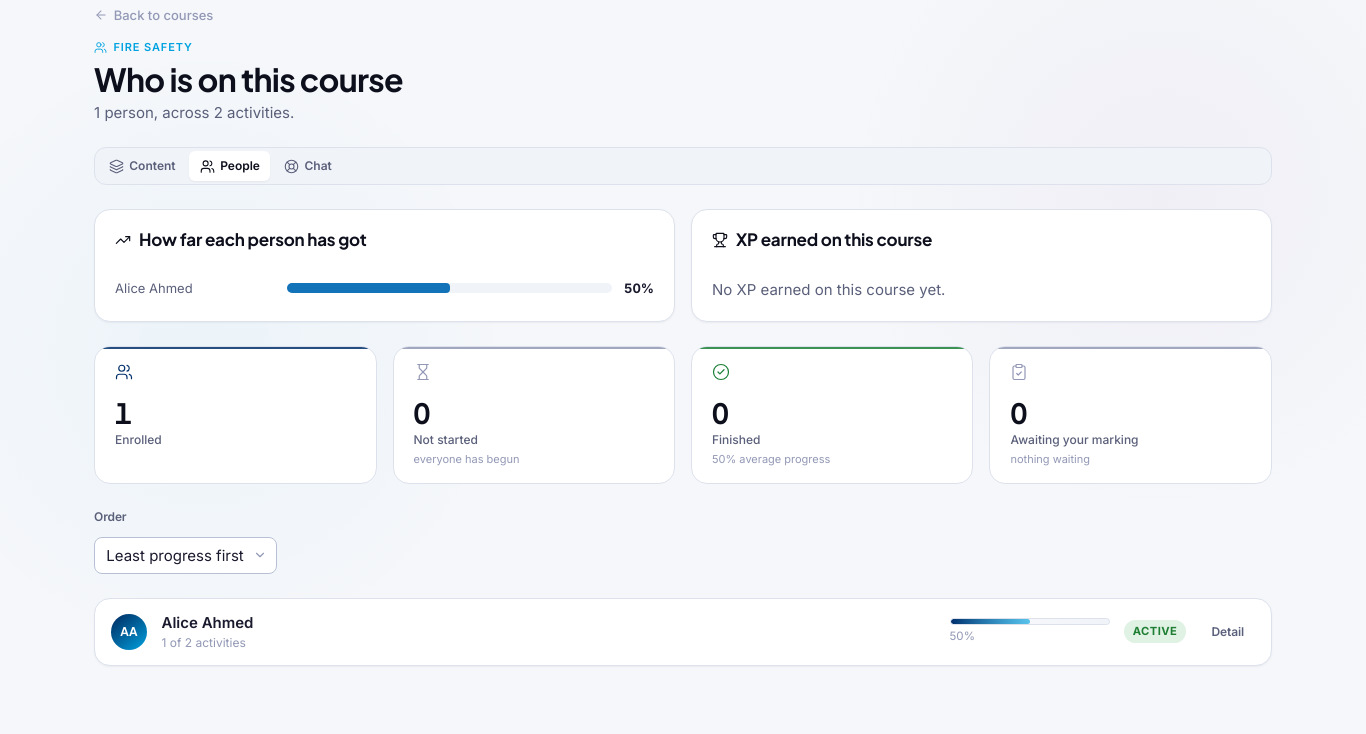
it: one person › lists which activities are done and which are not
Click the button "Detail".
click(1228, 632)  # box x1=1200 y1=617 x2=1255 y2=647
(page scrolled)
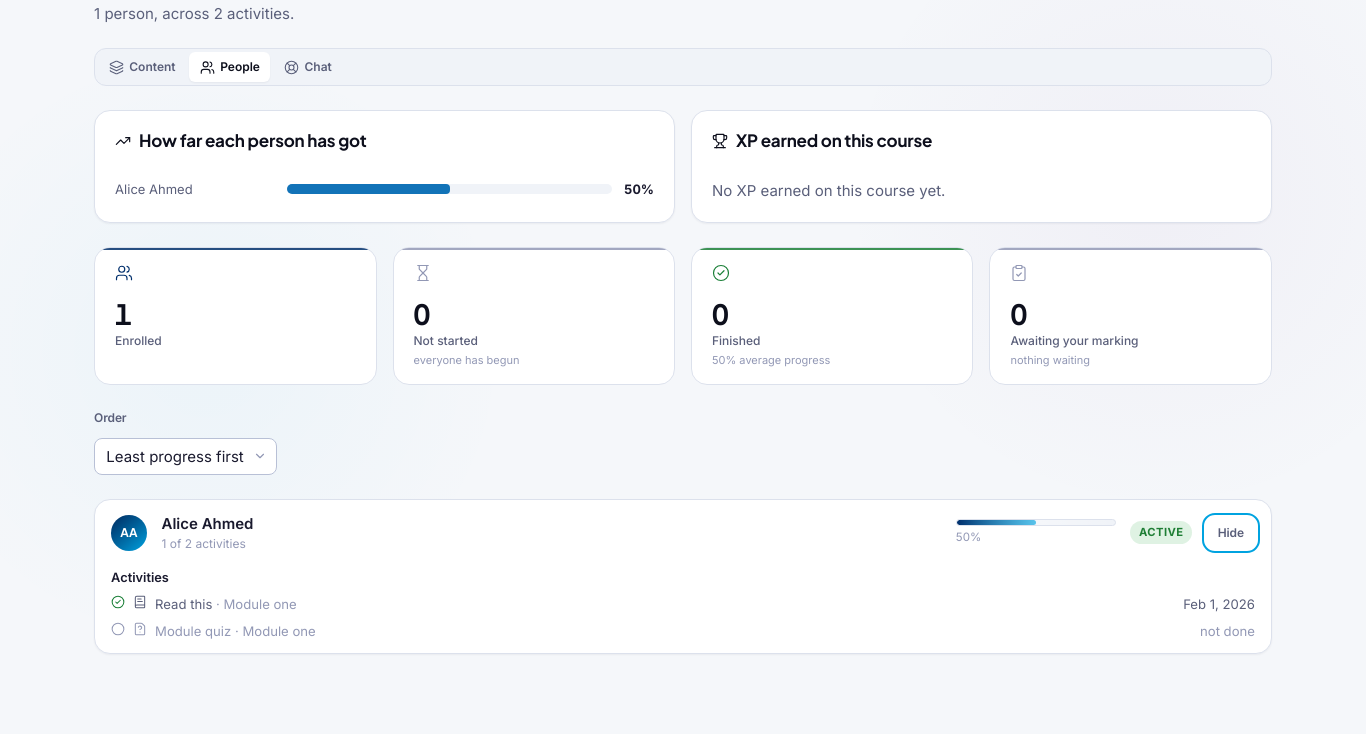
Result: the text "not done" is shown at x1=1200 y1=621 x2=1255 y2=641
